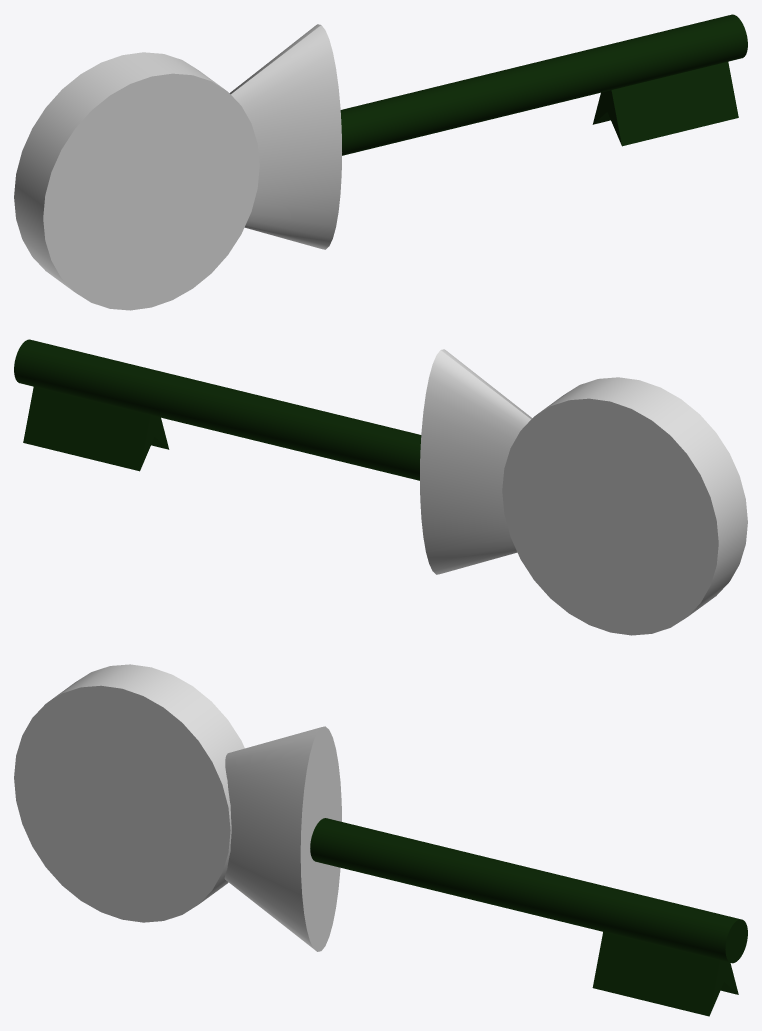
File: pandora_key.glb
3 renders of one model, top to bottom at view 1: azimuth 30°, elevation 25°; view 2: azimuth 150°, elevation 25°; view 3: azimuth 330°, elevation 25°, orthographic.
Visible parts, largest first — view 1: pandora_key; view 2: pandora_key; view 3: pandora_key.
Boxes of the visible parts, x1,y1,x2,y2 form: pandora_key: [14, 14, 747, 310]; pandora_key: [14, 339, 747, 635]; pandora_key: [14, 664, 747, 1016].
Bounding box in the file's own units: 0.9852 × 0.3071 × 0.1.
